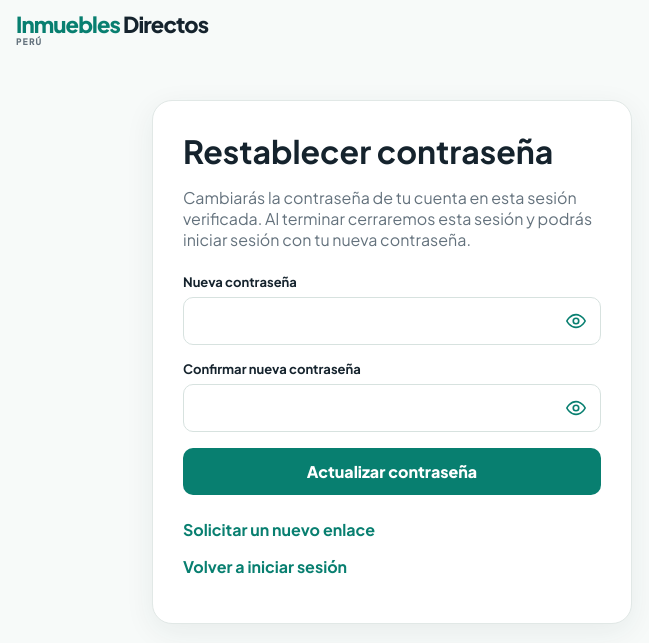
Test: verified self password update › handles a thrown sign-out after update without asking to update twice
The image size is (649, 643).
Type "fixture-password" into the password field labelled "Nueva contraseña". click: (392,321)
box: top-left (183, 297), bottom-right (601, 345)
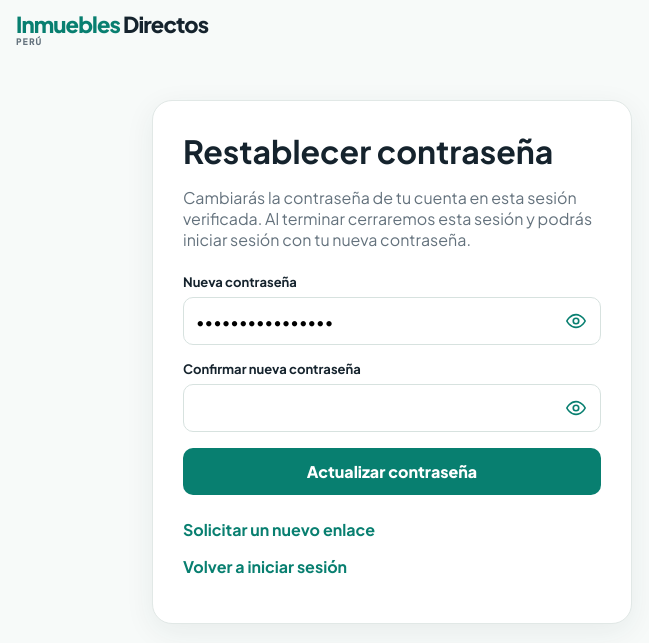
Type "fixture-password" into the password field labelled "Confirmar nueva contraseña". click: (392,408)
box: top-left (183, 384), bottom-right (601, 432)
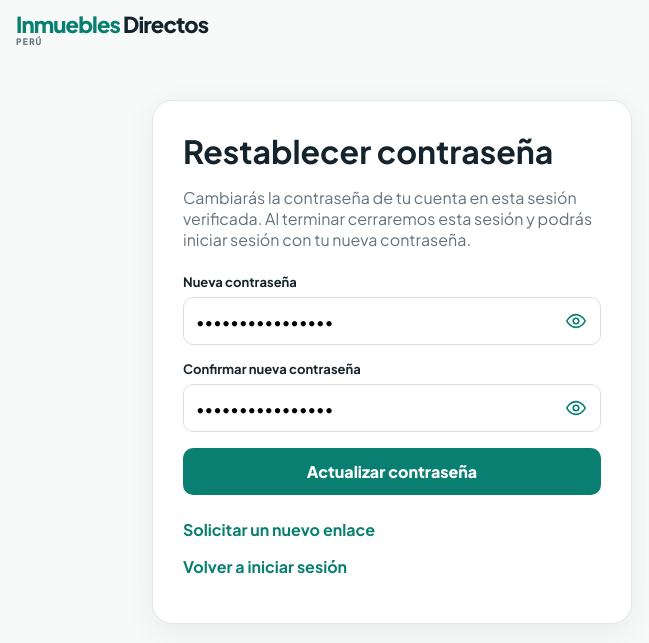
Submit the form labelled "Nueva contraseña", box top-left (183, 274), bottom-right (601, 495)
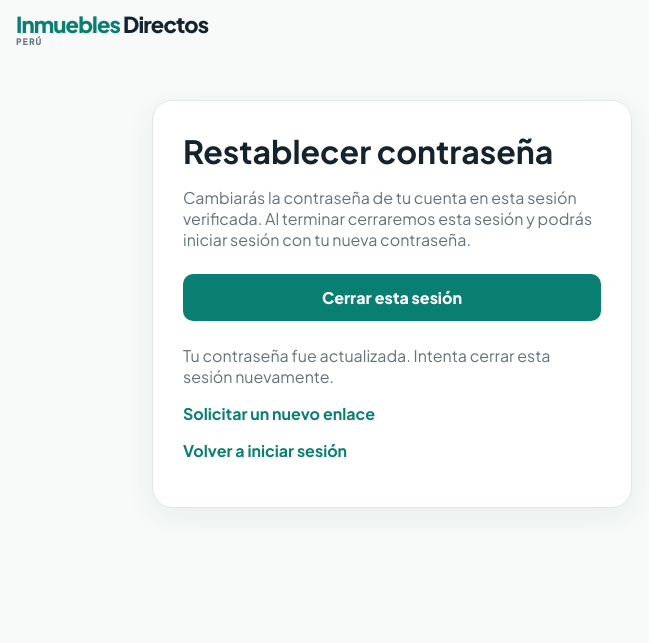
Expected: the field labelled "Nueva contraseña" is not shown
Expected: the message shows "fue actualizada", top-left (183, 345), bottom-right (550, 387)
